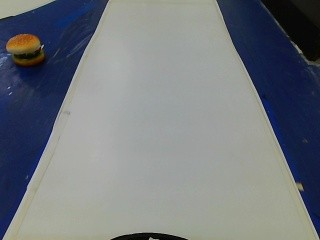burger: (3, 32, 48, 70)
